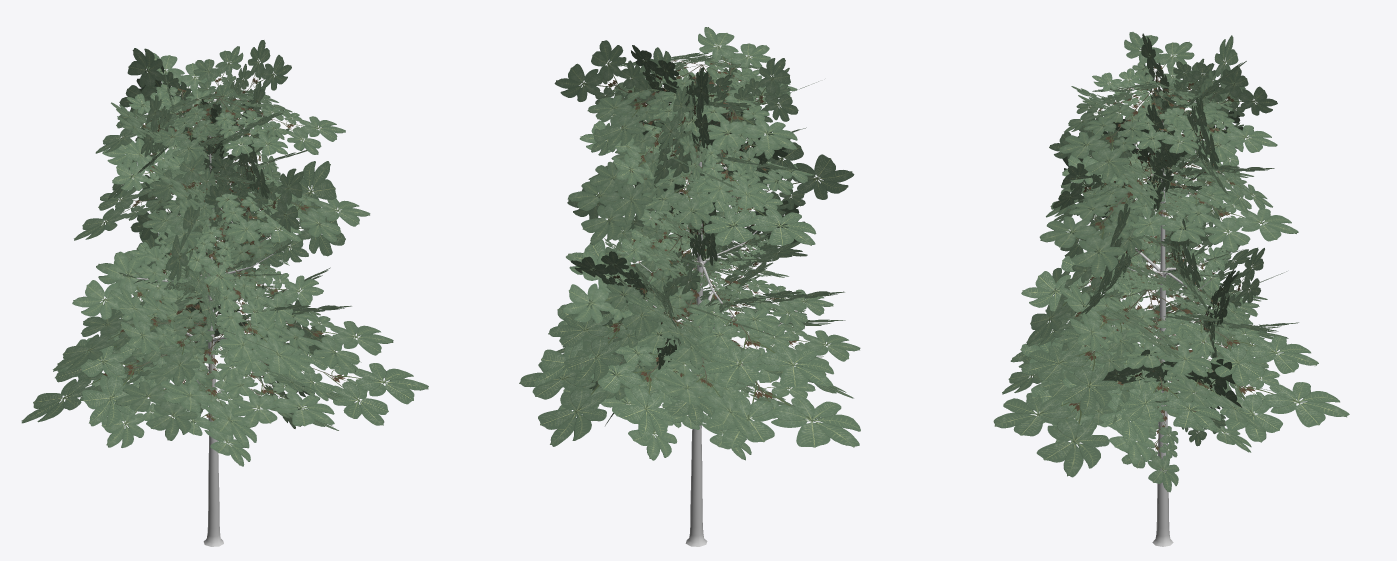
Rendered from CACAO_DE_MONTE_LISTO.fbx.
The picture shows the model from 3 angles, left to right: view 1: azimuth 30°, elevation 25°; view 2: azimuth 150°, elevation 25°; view 3: azimuth 270°, elevation 25°; orthographic projection. The views are drawn at different scales.
Visible parts, largest first — view 1: CACAODEMONTE_LOD0; view 2: CACAODEMONTE_LOD0; view 3: CACAODEMONTE_LOD0.
Part boxes in pixels (left/top/right/bottom): CACAODEMONTE_LOD0: left=21, top=40, right=428, bottom=546; CACAODEMONTE_LOD0: left=519, top=27, right=860, bottom=546; CACAODEMONTE_LOD0: left=993, top=32, right=1349, bottom=546.
Size of what is drawn, in the model's own units: 12.74 by 15.14 by 11.84.
